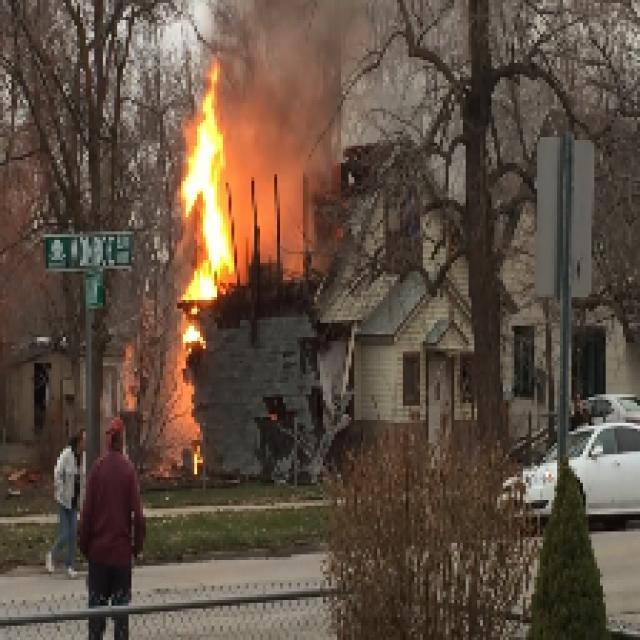Fire: (172, 112, 232, 287)
Smoke: (239, 5, 327, 254)
